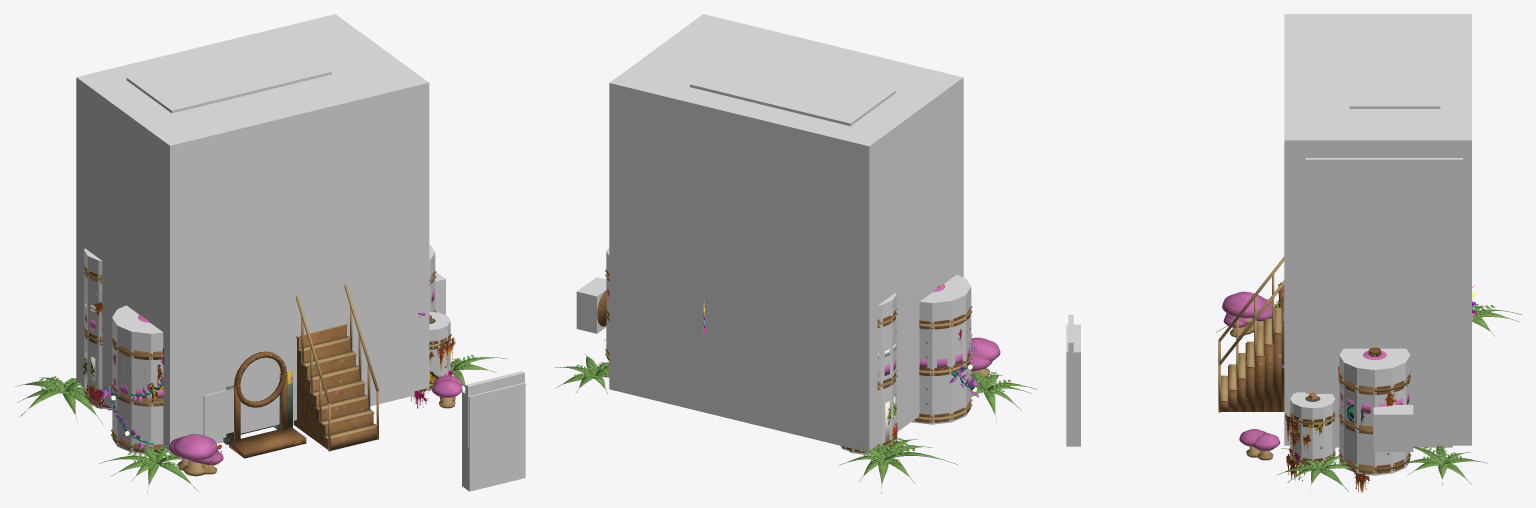
Rendered from fermentation_lab.glb.
The picture shows the model from 3 angles, left to right: view 1: azimuth 30°, elevation 25°; view 2: azimuth 150°, elevation 25°; view 3: azimuth 270°, elevation 25°; orthographic projection.
Visible parts, largest first — view 1: col_bld_fermentation_lab_greenlights, fermentation_lab_body_a, fermentation_lab_body_b, col_bld_fermentation_lab_roof_shrooms, col_bld_fermentation_lab_SIGN_t_sign_posts, col_bld_fermentation_lab_T_pinkFL, col_bld_fermentation_lab_T_back_L, fermentation_lab_decal, col_bld_WALL_skull_decal_i.001, col_bld_fermentation_lab_T_smallFR, col_bld_fermentation_lab_SIGN_t_sign, fermentation_lab_plain; view 2: col_bld_fermentation_lab_greenlights, col_bld_fermentation_lab_roof_shrooms, col_bld_fermentation_lab_T_pinkFL, fermentation_lab_body_a, col_bld_fermentation_lab_T_back_L, col_bld_WINDOW_round_sill_i.011, fermentation_lab_body_b, fermentation_lab_plain; view 3: col_bld_fermentation_lab_pipes, col_bld_fermentation_lab_greenlights, fermentation_lab_body_b, col_bld_fermentation_lab_roof_shrooms, col_bld_fermentation_lab_T_pinkR, fermentation_lab_body_a, col_bld_fermentation_lab_T_smallFR, col_bld_WINDOW_round_sill_i.011, col_bld_fermentation_lab_SIGN_t_sign_posts, fermentation_lab_decal, col_bld_fermentation_lab_SIGN_t_sign.
Part boxes in pixels (x1=…): col_bld_fermentation_lab_greenlights: x1=76, y1=14, x2=429, y2=449; fermentation_lab_body_a: x1=14, y1=263, x2=330, y2=493; fermentation_lab_body_b: x1=240, y1=270, x2=507, y2=450; col_bld_fermentation_lab_roof_shrooms: x1=126, y1=38, x2=331, y2=113; col_bld_fermentation_lab_SIGN_t_sign_posts: x1=462, y1=382, x2=525, y2=491; col_bld_fermentation_lab_T_pinkFL: x1=112, y1=305, x2=170, y2=453; col_bld_fermentation_lab_T_back_L: x1=84, y1=248, x2=111, y2=409; fermentation_lab_decal: x1=82, y1=302, x2=455, y2=465; col_bld_WALL_skull_decal_i.001: x1=203, y1=388, x2=233, y2=437; col_bld_fermentation_lab_T_smallFR: x1=425, y1=311, x2=450, y2=390; col_bld_fermentation_lab_SIGN_t_sign: x1=465, y1=371, x2=524, y2=448; fermentation_lab_plain: x1=85, y1=299, x2=164, y2=444; col_bld_fermentation_lab_greenlights: x1=609, y1=14, x2=963, y2=452; col_bld_fermentation_lab_roof_shrooms: x1=690, y1=51, x2=895, y2=126; col_bld_fermentation_lab_T_pinkFL: x1=912, y1=274, x2=971, y2=424; fermentation_lab_body_a: x1=839, y1=284, x2=1037, y2=493; col_bld_fermentation_lab_T_back_L: x1=840, y1=293, x2=896, y2=454; col_bld_WINDOW_round_sill_i.011: x1=576, y1=277, x2=606, y2=333; fermentation_lab_body_b: x1=554, y1=269, x2=609, y2=394; fermentation_lab_plain: x1=703, y1=300, x2=976, y2=454; col_bld_fermentation_lab_pipes: x1=1305, y1=158, x2=1462, y2=437; col_bld_fermentation_lab_greenlights: x1=1284, y1=14, x2=1471, y2=445; fermentation_lab_body_b: x1=1218, y1=280, x2=1487, y2=491; col_bld_fermentation_lab_roof_shrooms: x1=1349, y1=28, x2=1440, y2=108; col_bld_fermentation_lab_T_pinkR: x1=1339, y1=348, x2=1410, y2=475; fermentation_lab_body_a: x1=1216, y1=256, x2=1521, y2=363; col_bld_fermentation_lab_T_smallFR: x1=1290, y1=392, x2=1335, y2=465; col_bld_WINDOW_round_sill_i.011: x1=1373, y1=405, x2=1413, y2=451; col_bld_fermentation_lab_SIGN_t_sign_posts: x1=1066, y1=324, x2=1080, y2=446; fermentation_lab_decal: x1=1285, y1=366, x2=1396, y2=492; col_bld_fermentation_lab_SIGN_t_sign: x1=1068, y1=315, x2=1073, y2=404.
Bounding box in the file's own units: 7.85 × 6.01 × 7.33.
Materials: 32 (12 with a texture image).
